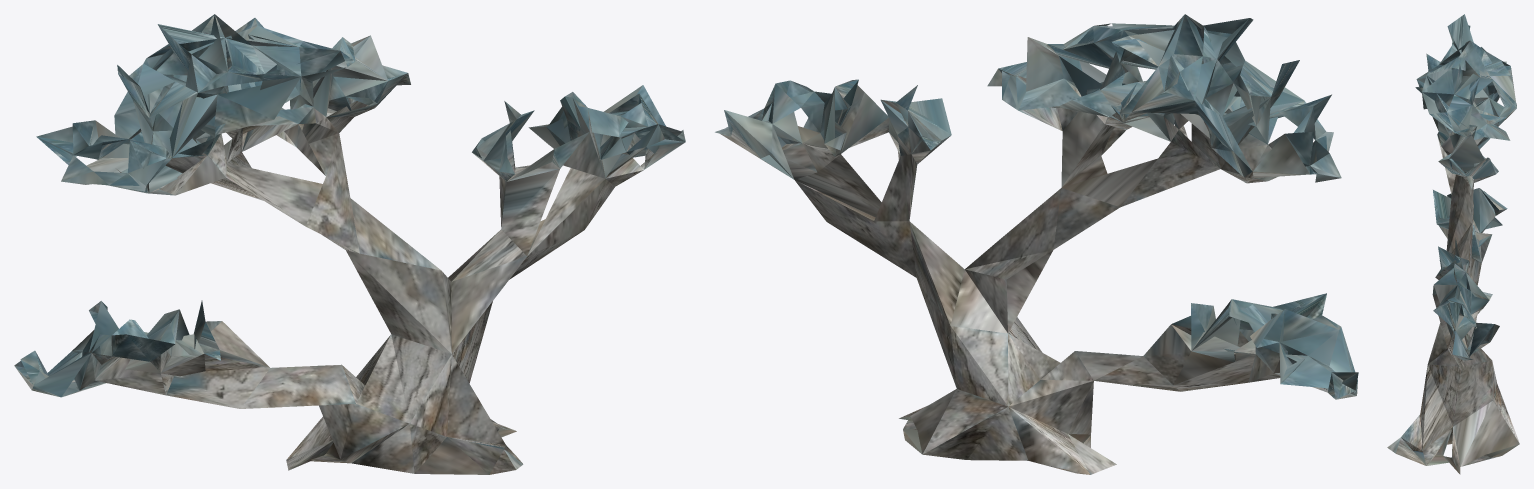
The model's file is fc_dwarfshrub_lod1.glb.
3 views of the same model, side by side, from view 1: azimuth 30°, elevation 25°; view 2: azimuth 150°, elevation 25°; view 3: azimuth 270°, elevation 25° (orthographic). The views are drawn at different scales.
Parts seen in each view (by area): view 1: mesh; view 2: mesh; view 3: mesh.
Boxes of the visible parts, x1=… form: mesh: x1=14, y1=14, x2=685, y2=474; mesh: x1=715, y1=14, x2=1358, y2=474; mesh: x1=1387, y1=14, x2=1519, y2=474.
Size of the model in its own units: 1.72 by 1.23 by 0.4356.
1 material, 1 textured.
